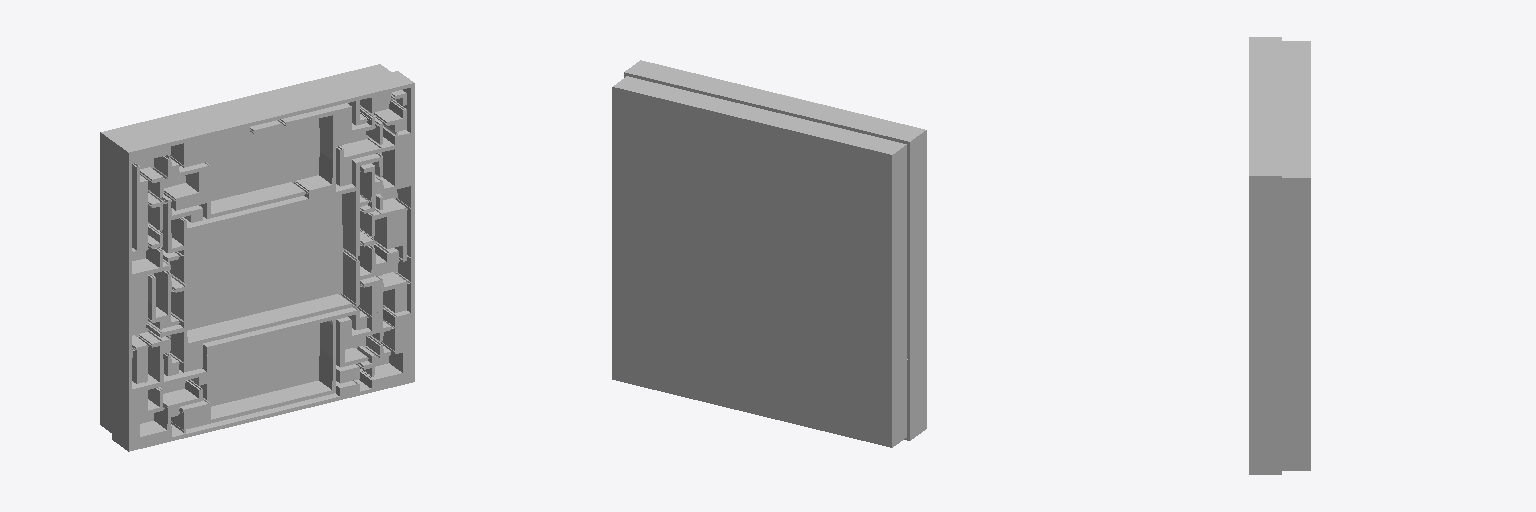
File: dungeon2.obj
The picture shows the model from 3 angles: view 1: azimuth 30°, elevation 25°; view 2: azimuth 150°, elevation 25°; view 3: azimuth 270°, elevation 25°; orthographic projection.
Parts seen in each view (by area): view 1: Object.1, Object.43, Object.5, Object.10, Object.29, Object.39, Object.20, Object.28, Object.8, Object.36; view 2: Object.43, Object.1; view 3: Object.1, Object.43.
Boxes of the visible parts, x1,y1,x2,y2 form: Object.1: [112, 71, 414, 451]; Object.43: [100, 64, 397, 432]; Object.5: [156, 103, 382, 282]; Object.10: [153, 156, 305, 218]; Object.29: [336, 272, 407, 367]; Object.39: [360, 198, 406, 261]; Object.20: [342, 243, 399, 305]; Object.28: [148, 270, 179, 329]; Object.8: [132, 163, 148, 252]; Object.36: [132, 335, 148, 383]; Object.43: [612, 76, 906, 447]; Object.1: [624, 60, 926, 440]; Object.1: [1249, 37, 1281, 474]; Object.43: [1282, 41, 1310, 470].
Size of the model in its own units: 184 by 184 by 34.67.